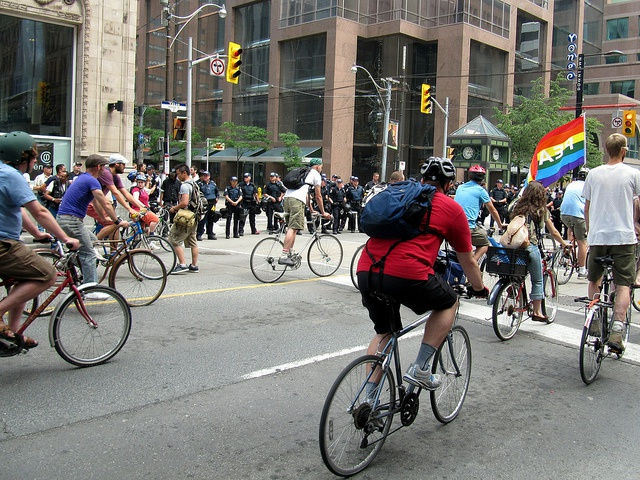non-vehicle: (316, 249, 473, 479), (0, 238, 132, 368), (31, 226, 166, 307), (484, 242, 576, 341), (573, 255, 631, 385), (248, 210, 342, 283), (128, 211, 177, 274), (548, 220, 579, 286), (154, 211, 172, 241), (537, 233, 557, 255)
